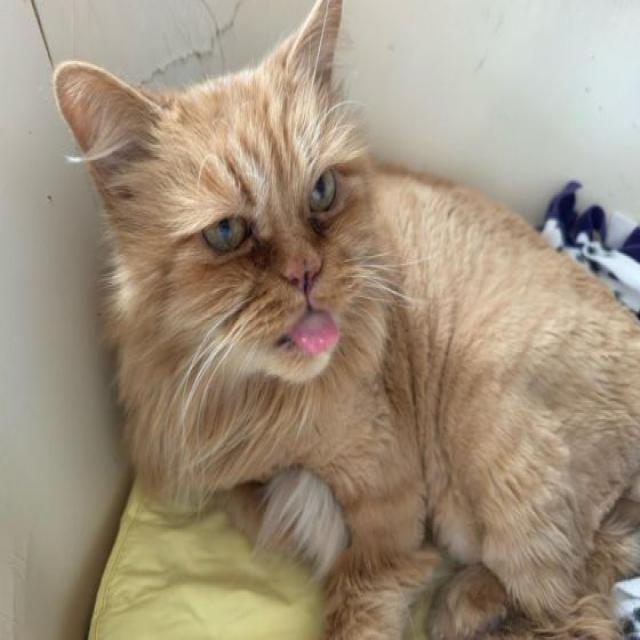persian_cat: (48, 2, 410, 398)
